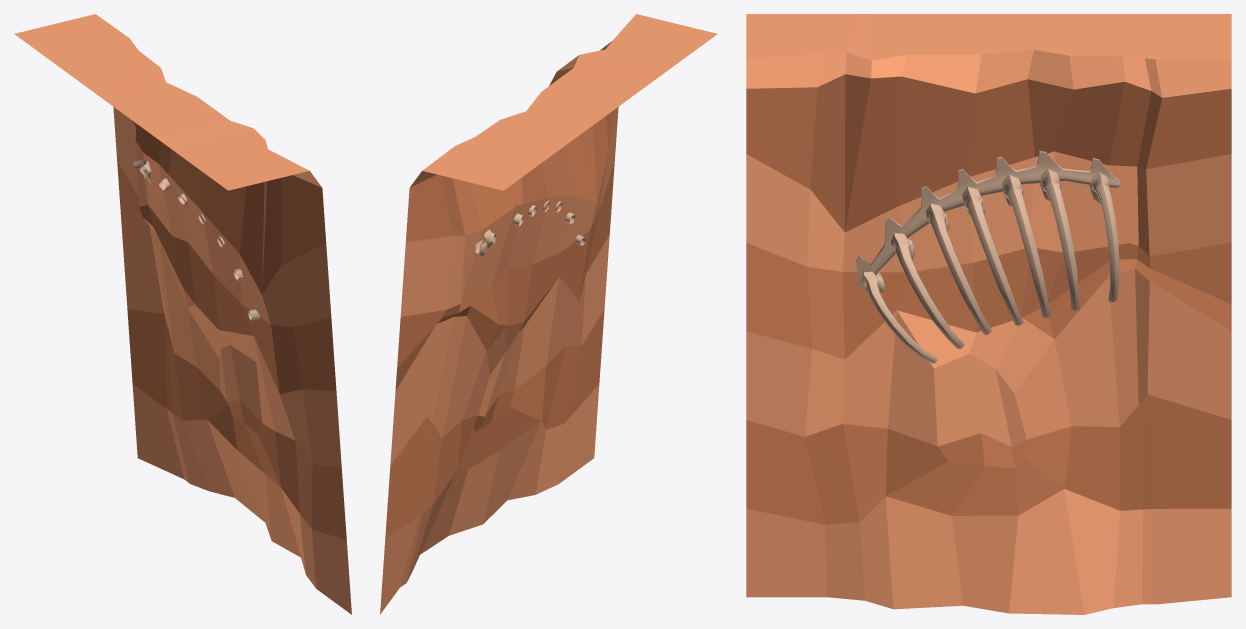
File: Hero_Cliff_Rib_Cage.fbx
The picture shows the model from 3 angles, left to right: view 1: azimuth 30°, elevation 25°; view 2: azimuth 150°, elevation 25°; view 3: azimuth 270°, elevation 25°; orthographic projection. The views are drawn at different scales.
Visible parts, largest first — view 1: Hero_Cliff_Rib_Cage; view 2: Hero_Cliff_Rib_Cage; view 3: Hero_Cliff_Rib_Cage.
Part boxes in pixels (x1,y1,x2,y2): Hero_Cliff_Rib_Cage: (14, 14, 351, 614); Hero_Cliff_Rib_Cage: (380, 14, 717, 614); Hero_Cliff_Rib_Cage: (746, 14, 1231, 614).
Size of the model in its own units: 252 by 702 by 600.
